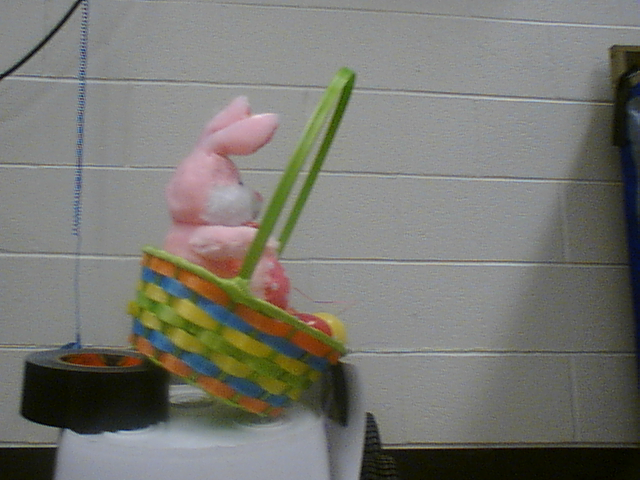bunny: (113, 69, 361, 421)
